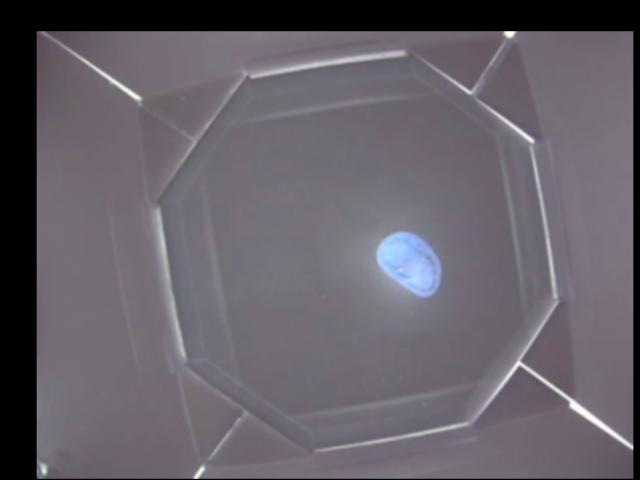Pebble: (376, 229, 443, 299)
